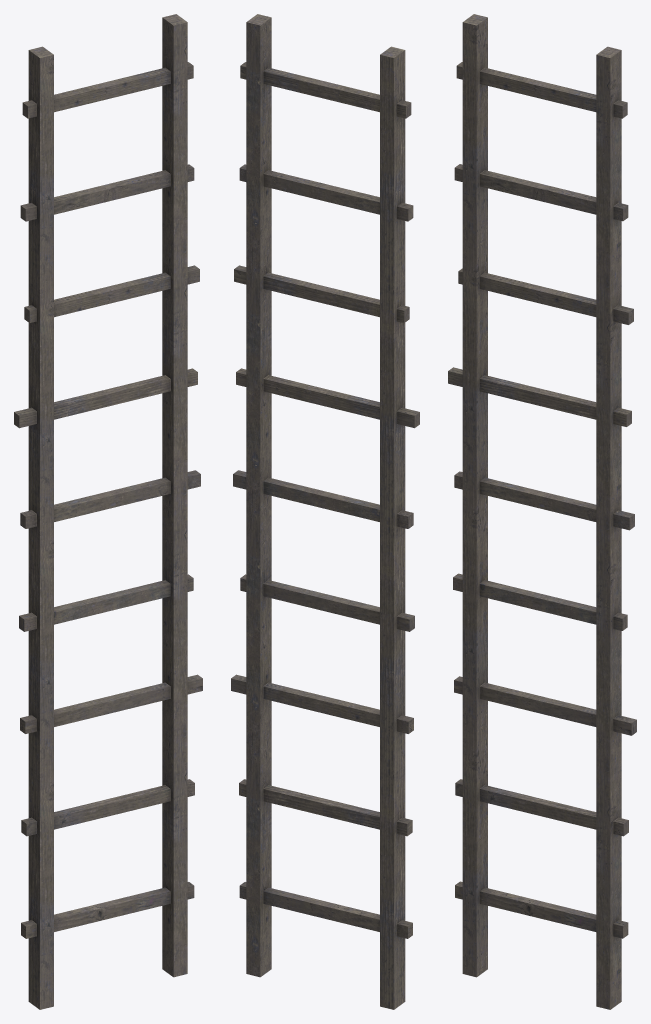
Rendered from ladder_2.glb.
The picture shows the model from 3 angles, left to right: view 1: azimuth 30°, elevation 25°; view 2: azimuth 150°, elevation 25°; view 3: azimuth 330°, elevation 25°; orthographic projection.
Parts seen in each view (by area): view 1: ladder_2; view 2: ladder_2; view 3: ladder_2.
Boxes of the visible parts, bbox=[...] form: ladder_2: bbox=[14, 14, 202, 1009]; ladder_2: bbox=[231, 14, 419, 1009]; ladder_2: bbox=[448, 14, 636, 1009].
Bounding box in the file's own units: 0.8805 × 4.36 × 0.0929.
1 material, 1 textured.
